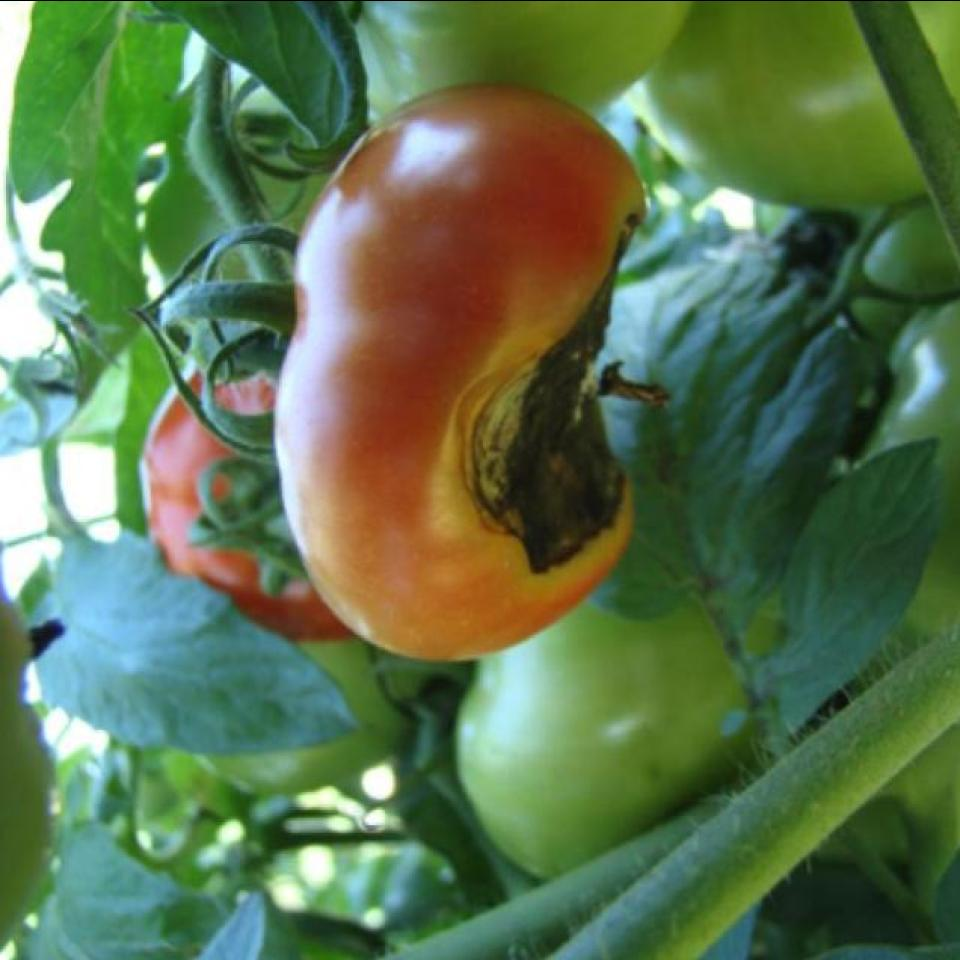Blossom_end_rot: (462, 171, 652, 587)
